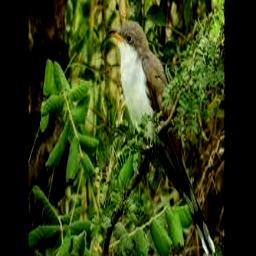Cuckoo: (107, 21, 216, 256)
